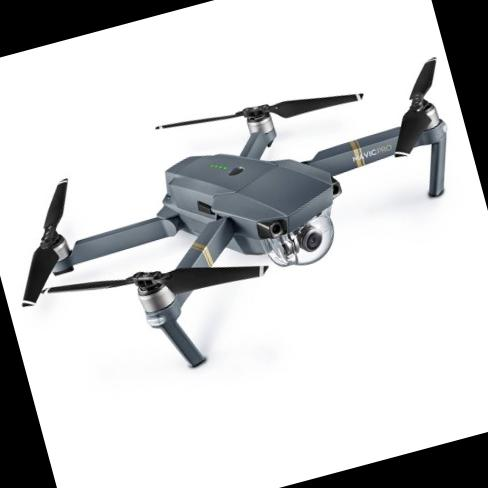drone: (0, 37, 488, 392)
